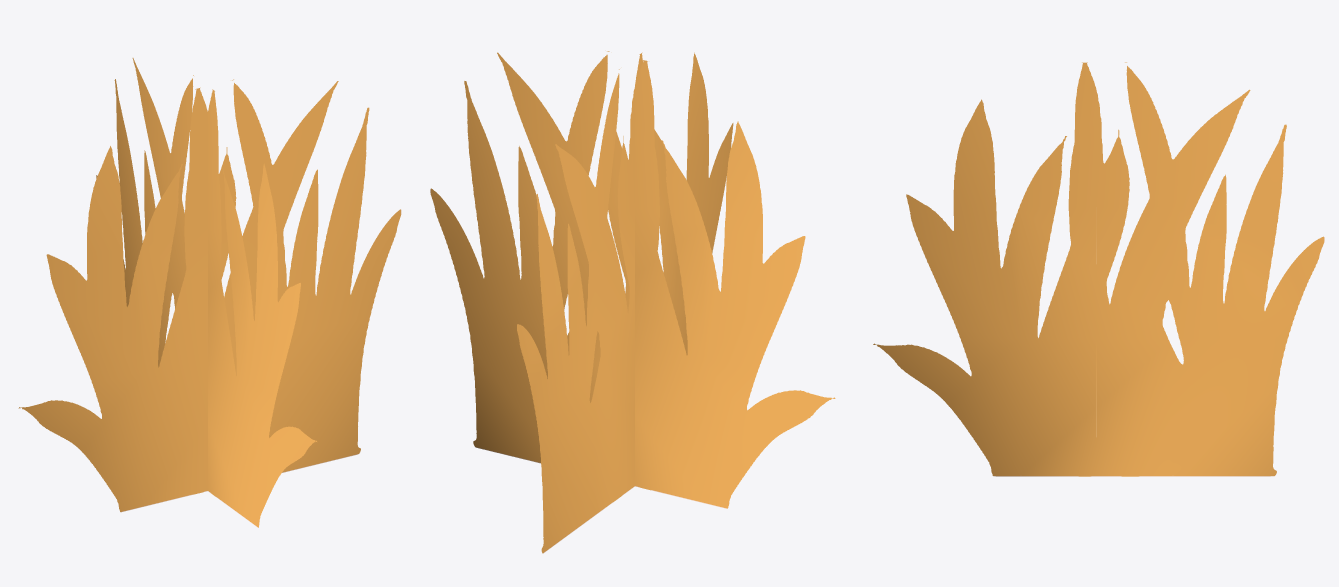
File: me_Grass01.fbx
3 views of the same model, side by side, from view 1: azimuth 30°, elevation 25°; view 2: azimuth 150°, elevation 25°; view 3: azimuth 270°, elevation 25° (orthographic). The views are drawn at different scales.
Parts seen in each view (by area): view 1: me_Grass01; view 2: me_Grass01; view 3: me_Grass01.
Boxes of the visible parts, box(x1,y1,x2,y2) form: me_Grass01: box(18, 58, 401, 527); me_Grass01: box(430, 51, 835, 553); me_Grass01: box(873, 62, 1324, 476).
Size of the model in its own units: 25 by 25 by 25.
